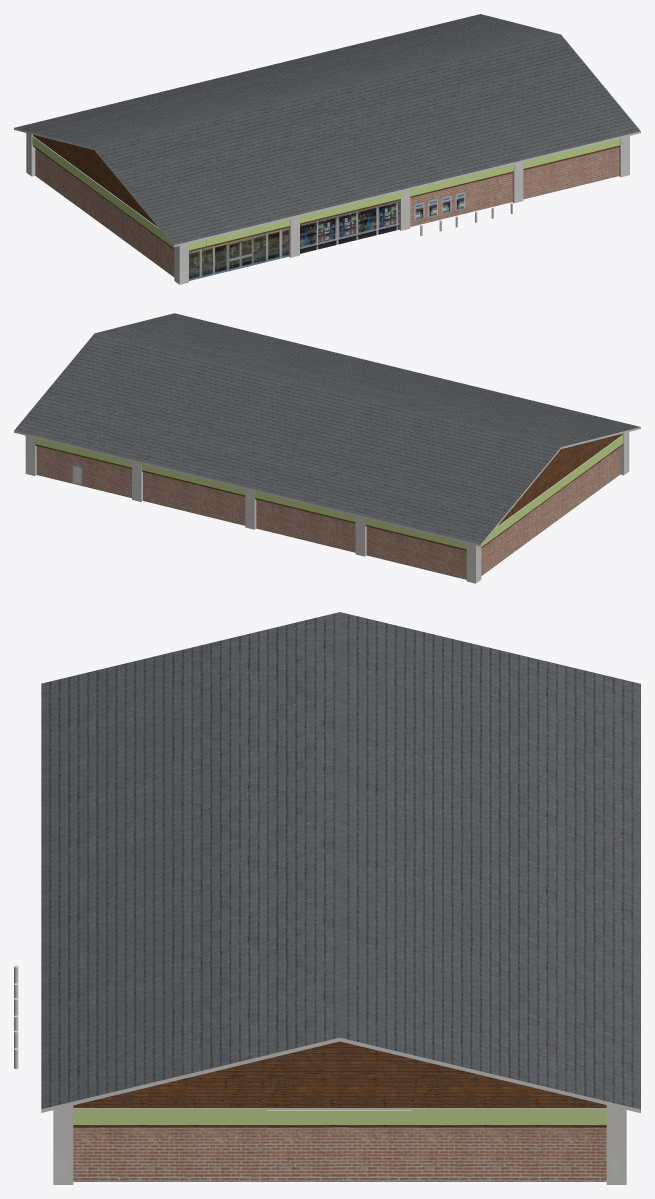
The model's file is uksupermarket2.FBX.
3 views of the same model, one above another, from view 1: azimuth 30°, elevation 25°; view 2: azimuth 150°, elevation 25°; view 3: azimuth 270°, elevation 25° (orthographic). The views are drawn at different scales.
Parts seen in each view (by area): view 1: Object001; view 2: Object001; view 3: Object001.
Boxes of the visible parts, x1,y1,x2,y2 form: Object001: (14,14,640,284); Object001: (14,313,640,583); Object001: (14,612,640,1184).
Bounding box in the file's own units: 4180 × 707 × 2602.
